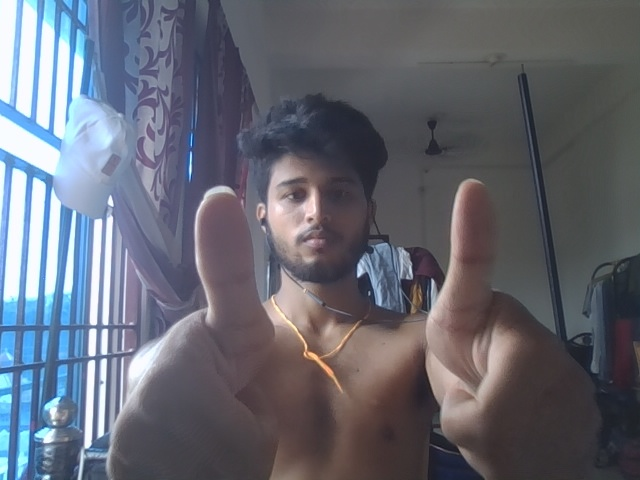Great: (56, 180, 615, 480)
